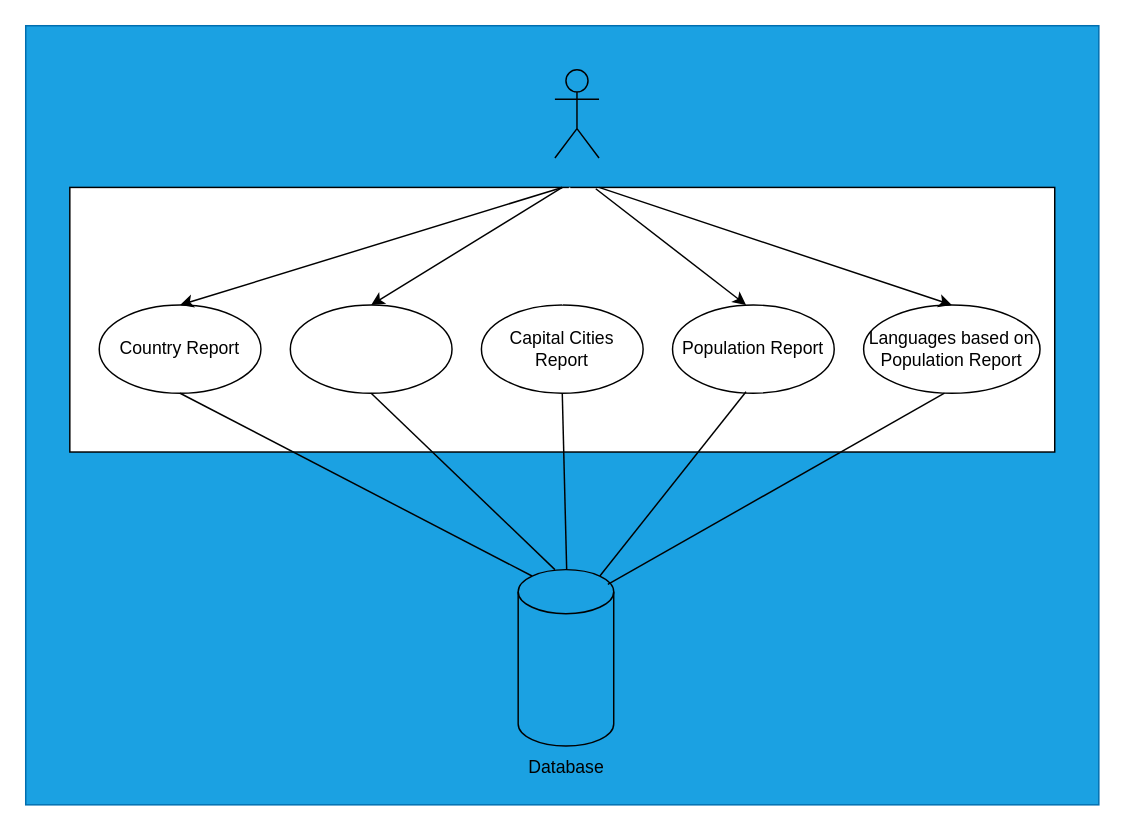
Some shapes in this 1125 by 831 pixel diagram are drawn without their labels. The shapes that lost their labels are listed below. From the top down, each one's box as (x1, y1, x2, y2) in pixels, then its label:
(553, 68, 599, 158): User
(289, 304, 452, 393): Cities Report
